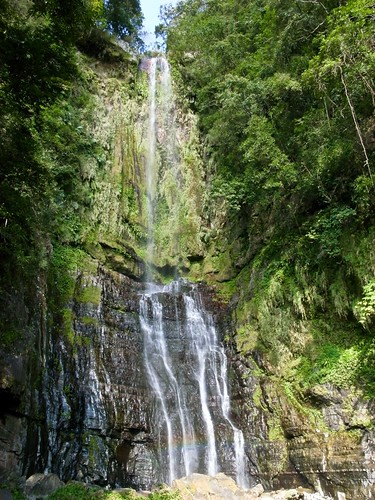wufengciWaterfall: (94, 33, 266, 479)
